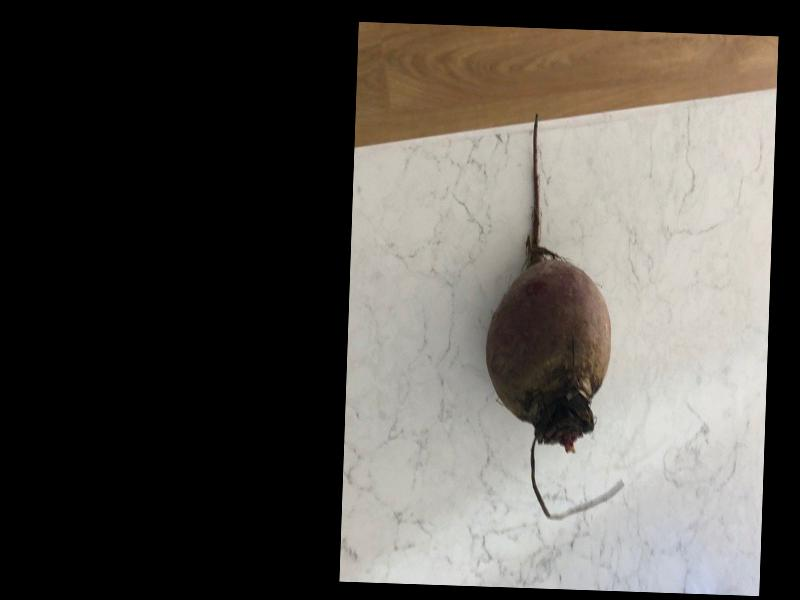Beet: (480, 111, 635, 520)
